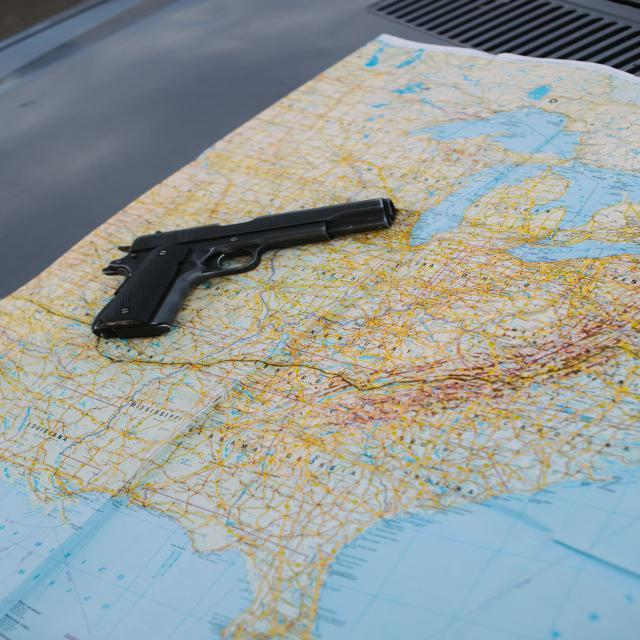Gun: (92, 199, 395, 338)
